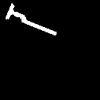half_double_crochet: (6, 4, 55, 34)
